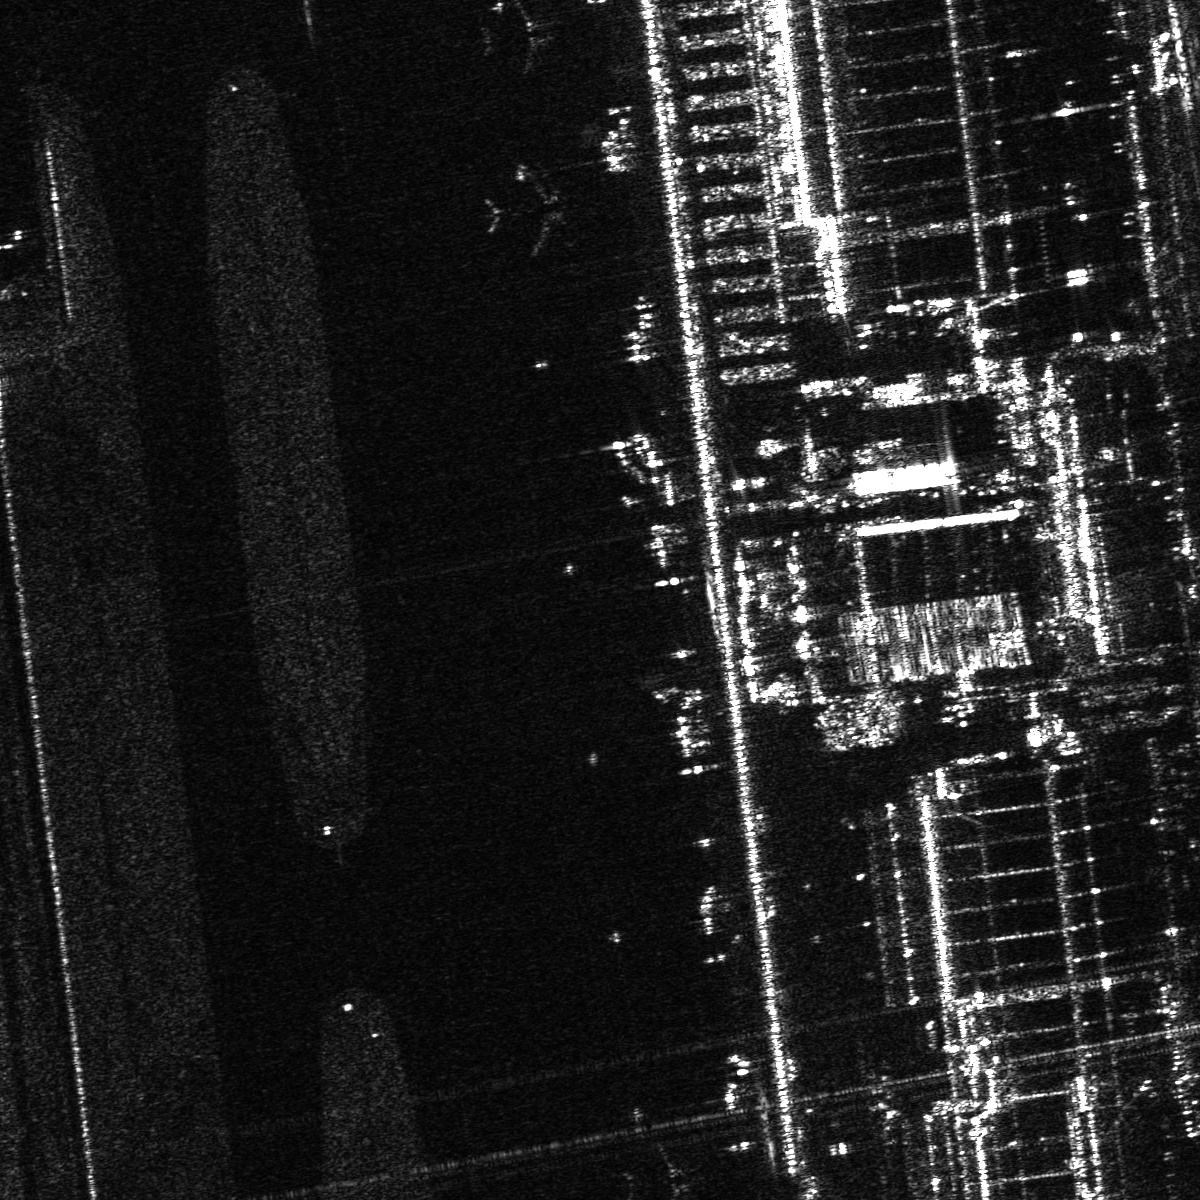Boeing787: (474, 154, 588, 266), (610, 1132, 714, 1199)
